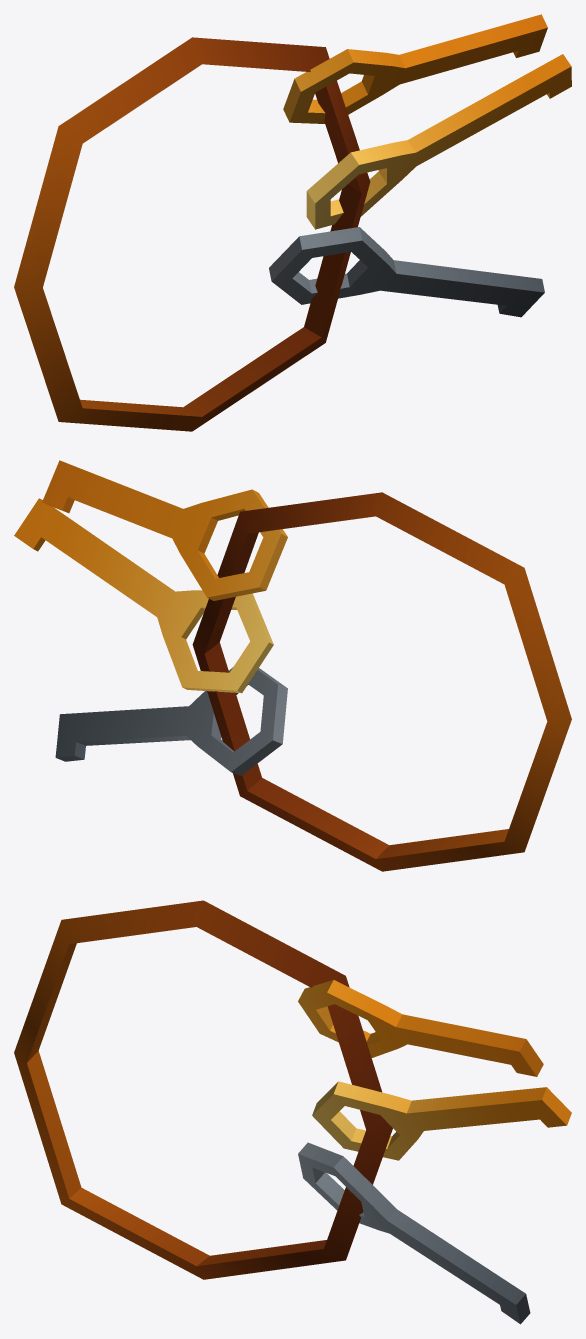
Rendered from Key 01.FBX.
The picture shows the model from 3 angles, top to bottom: view 1: azimuth 30°, elevation 25°; view 2: azimuth 150°, elevation 25°; view 3: azimuth 330°, elevation 25°; orthographic projection. The views are drawn at different scales.
Visible parts, largest first — view 1: Key 01; view 2: Key 01; view 3: Key 01.
Part boxes in pixels (bbox=[...]): Key 01: bbox=[14, 14, 571, 431]; Key 01: bbox=[14, 460, 571, 871]; Key 01: bbox=[14, 900, 571, 1324].
Bounding box in the file's own units: 43.43 × 28.89 × 5.69.
